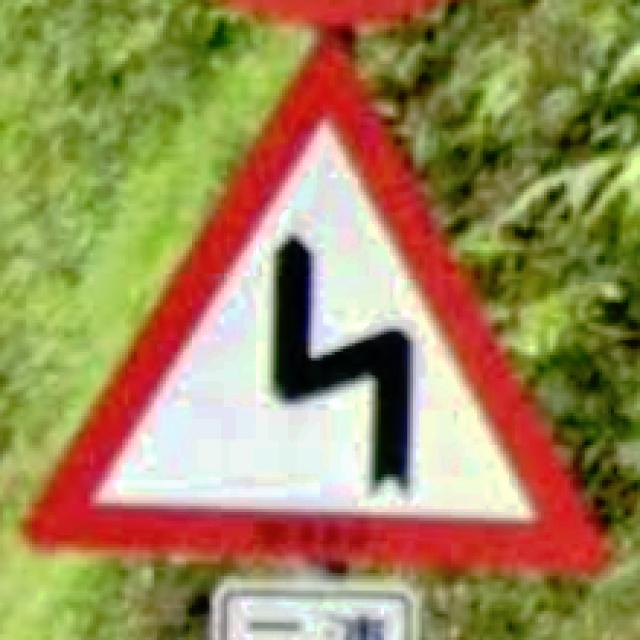doublebendleft: (26, 32, 605, 576)
